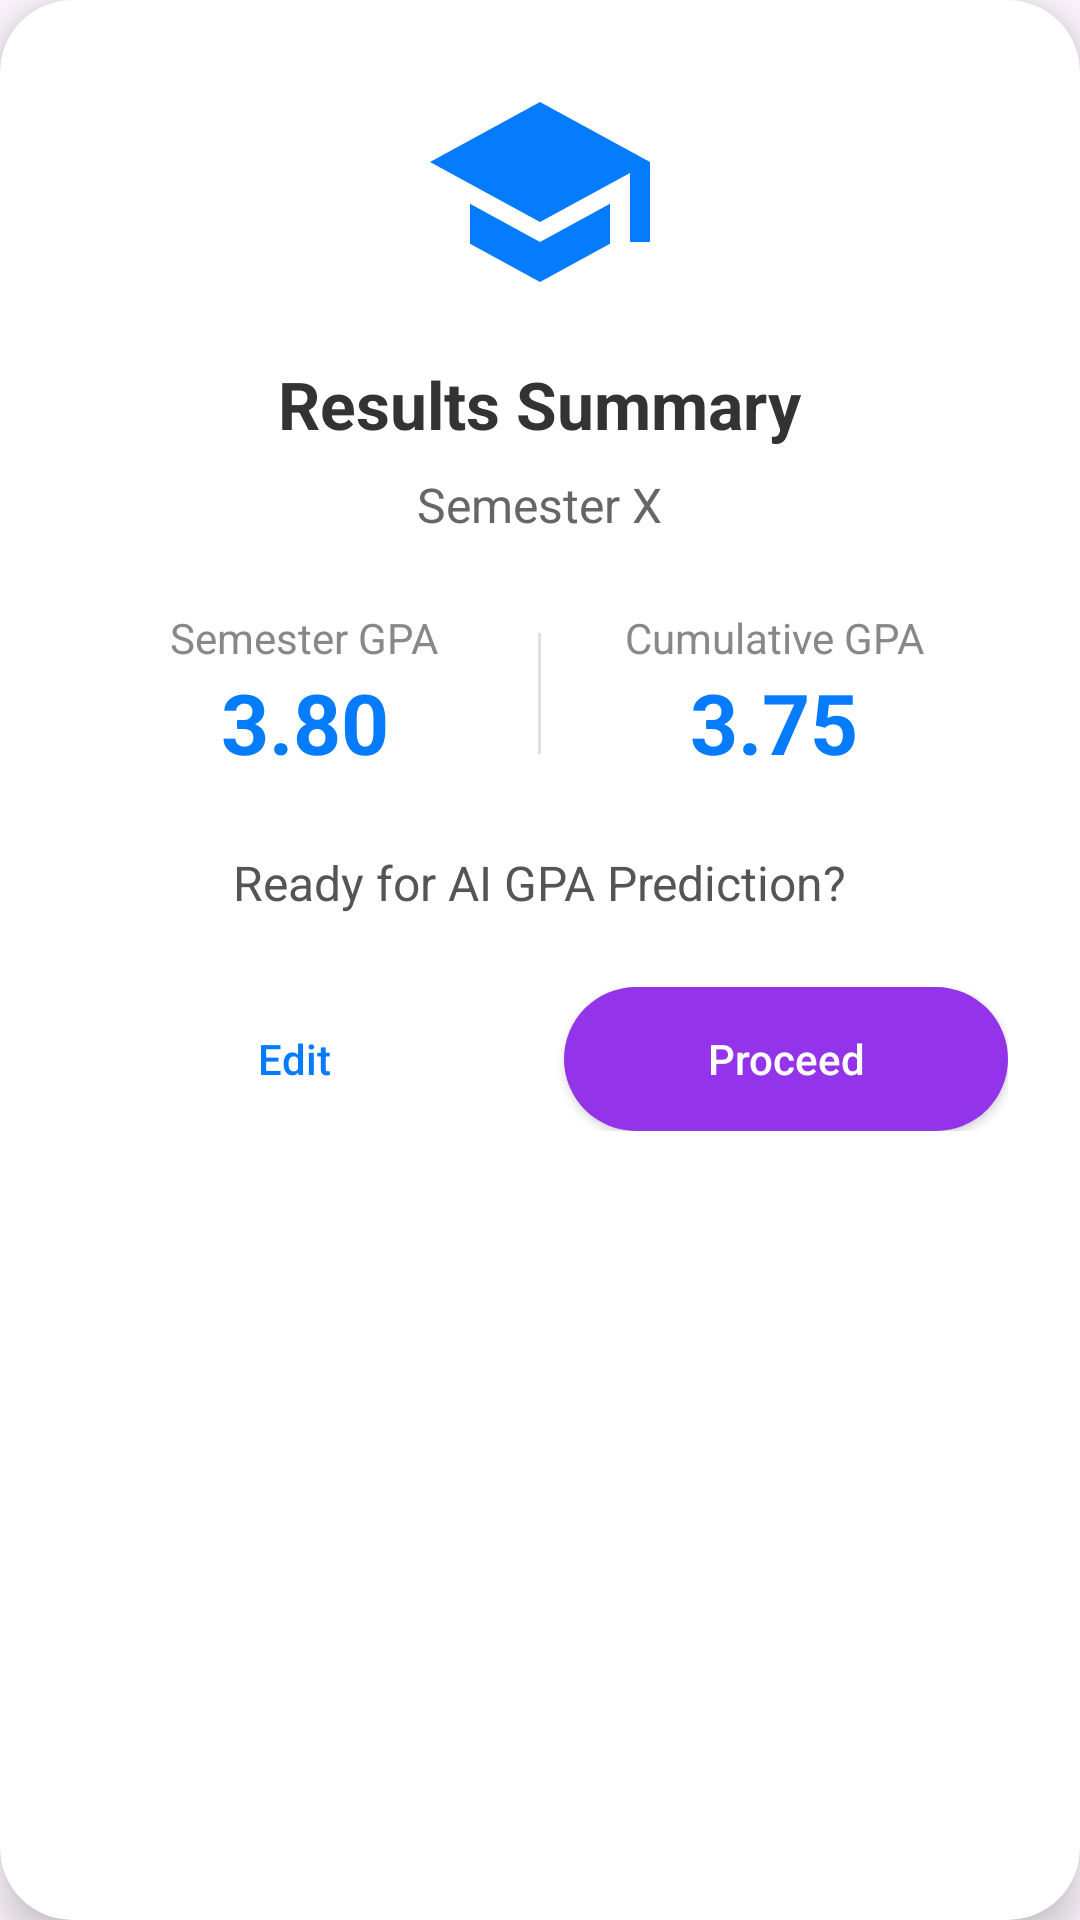

Screen size 1080w x 1920h. Icon name, then its center in pixels as point (x, y):
academic cap: point (540, 192)
